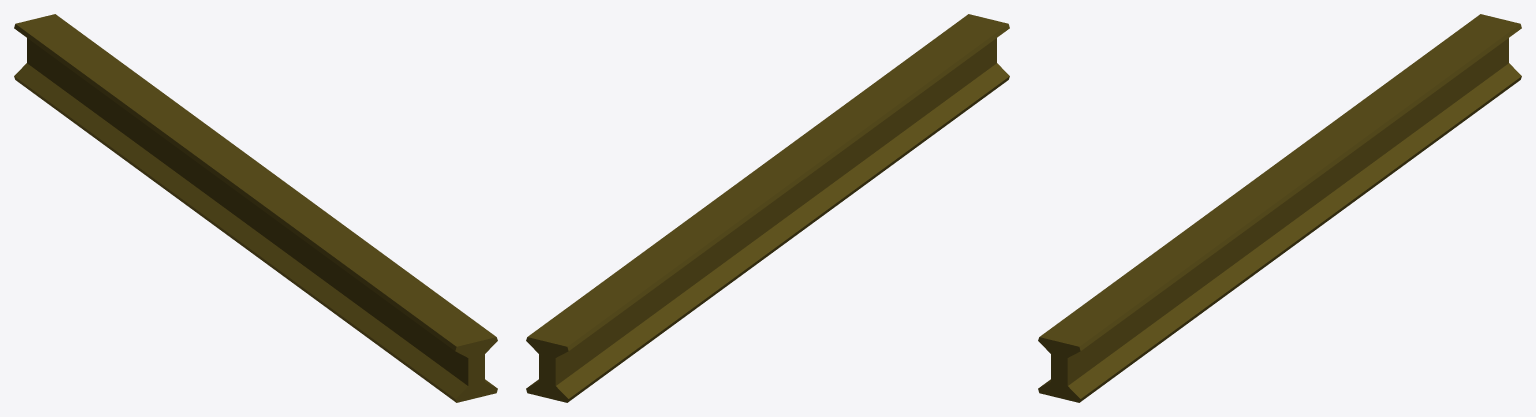
File: viga_remates.fbx
3 views of the same model, side by side, from view 1: azimuth 30°, elevation 25°; view 2: azimuth 150°, elevation 25°; view 3: azimuth 330°, elevation 25° (orthographic).
Parts seen in each view (by area): view 1: pCube11; view 2: pCube11; view 3: pCube11.
Part boxes in pixels (x1,y1,x2,y2): pCube11: [14, 14, 497, 402]; pCube11: [526, 14, 1009, 402]; pCube11: [1038, 14, 1521, 402].
Size of the model in its own units: 38.68 by 48.66 by 693.
